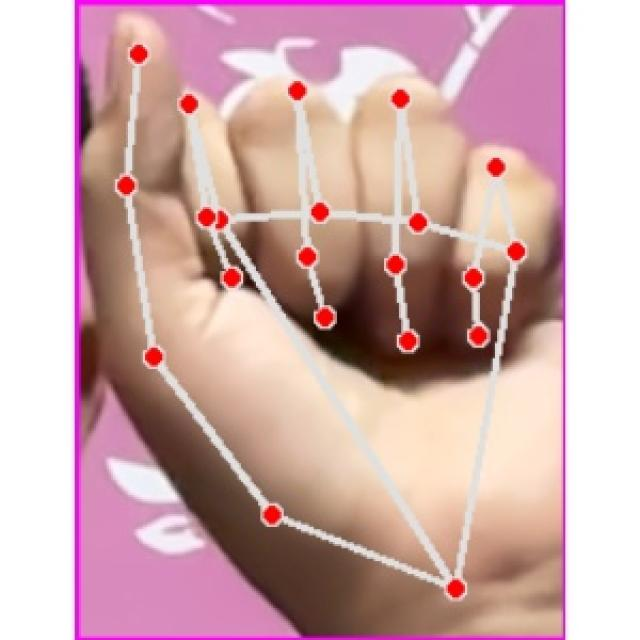A: (76, 4, 562, 640)
